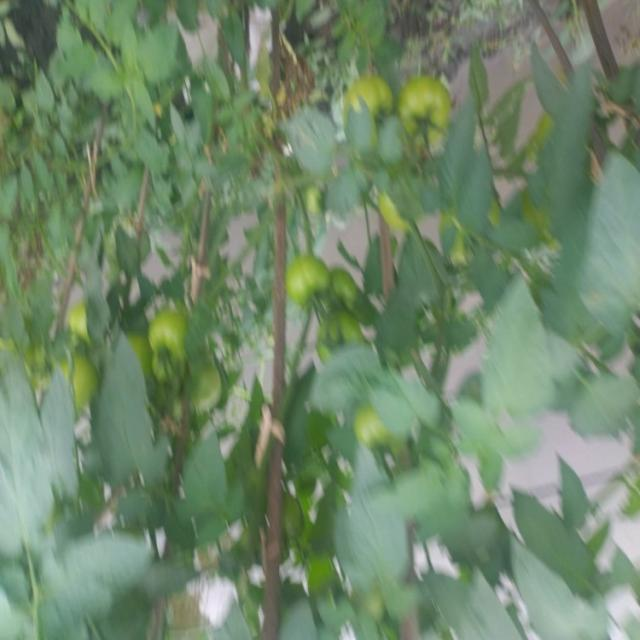tomato: (393, 70, 456, 146), (145, 299, 201, 368), (50, 341, 102, 407), (337, 62, 383, 129), (286, 241, 329, 309), (317, 302, 363, 359), (192, 377, 231, 418), (324, 273, 360, 303), (67, 304, 89, 336)
